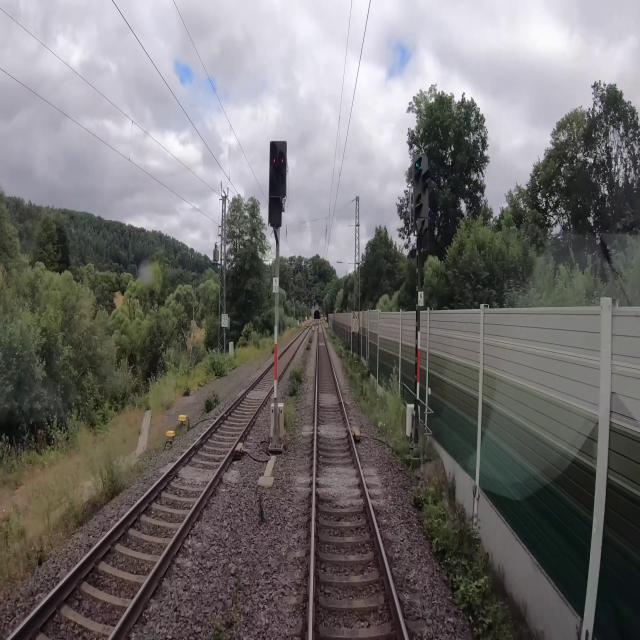Plant: (231, 575, 244, 630), (283, 396, 298, 435), (210, 610, 226, 639), (288, 367, 304, 396), (256, 482, 266, 524), (306, 343, 311, 350), (308, 336, 312, 343)
